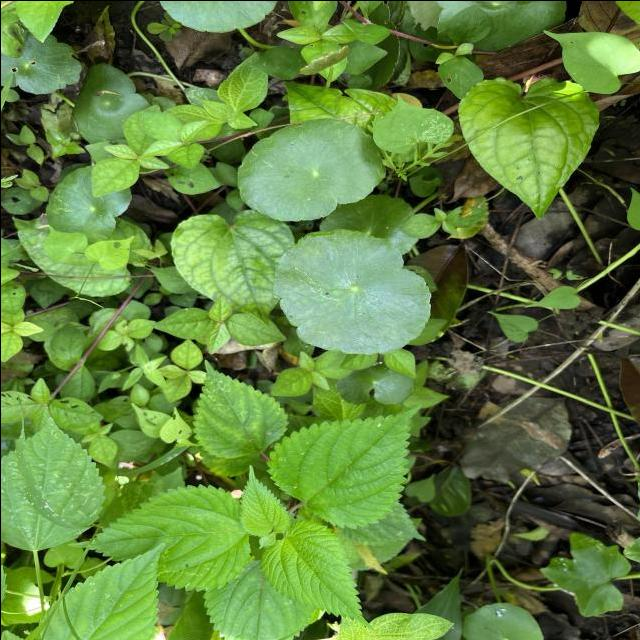Bacopa monnieri: (270, 225, 432, 357), (234, 115, 388, 224)
